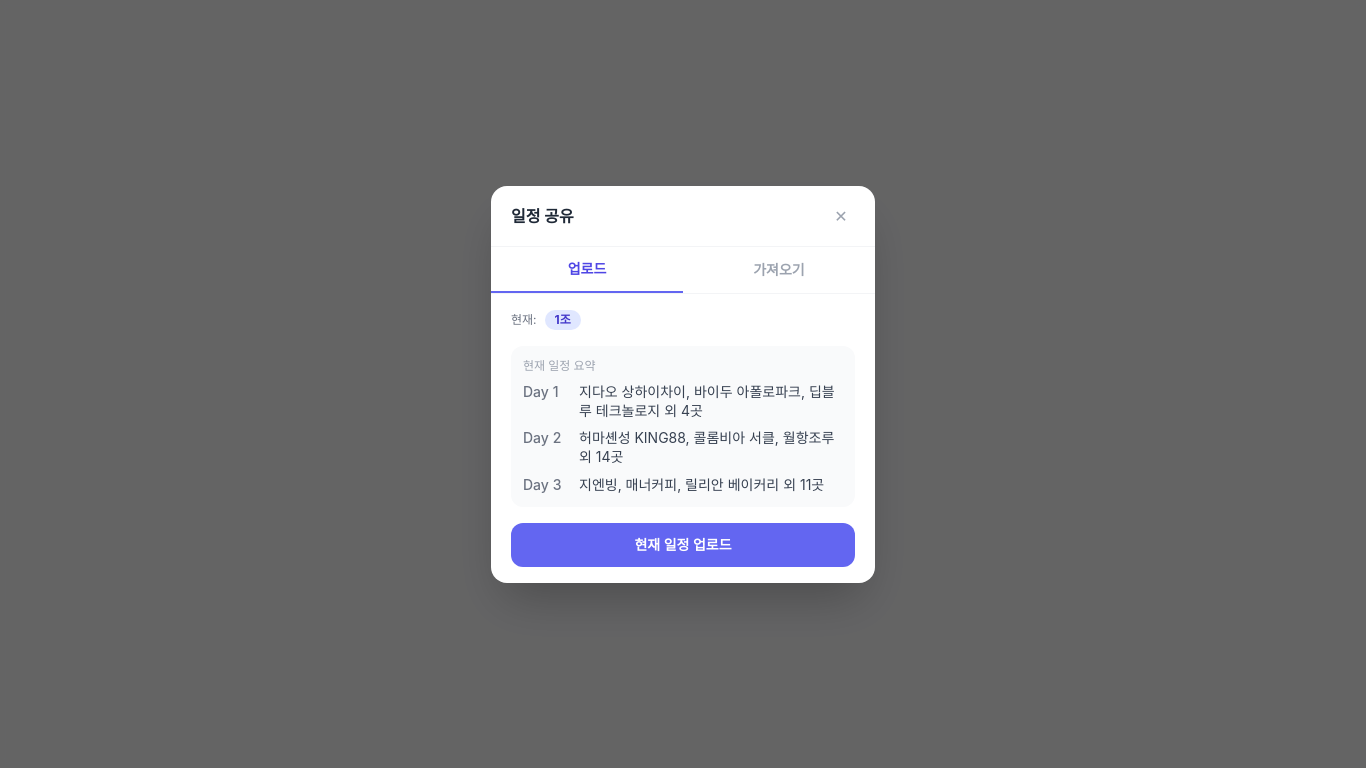
Test: ShareScheduleModal 컴포넌트 › 가져오기 탭 클릭 시 조 선택 UI가 표시된다
The image size is (1366, 768).
탭 영역에서 첫 번째 "가져오기" 탭 클릭 (헤더 탭)
What coordinates should you click on to do the following:
click the button "가져오기"
I would click on:
 (779, 270)
Its box is [683,246,875,292].
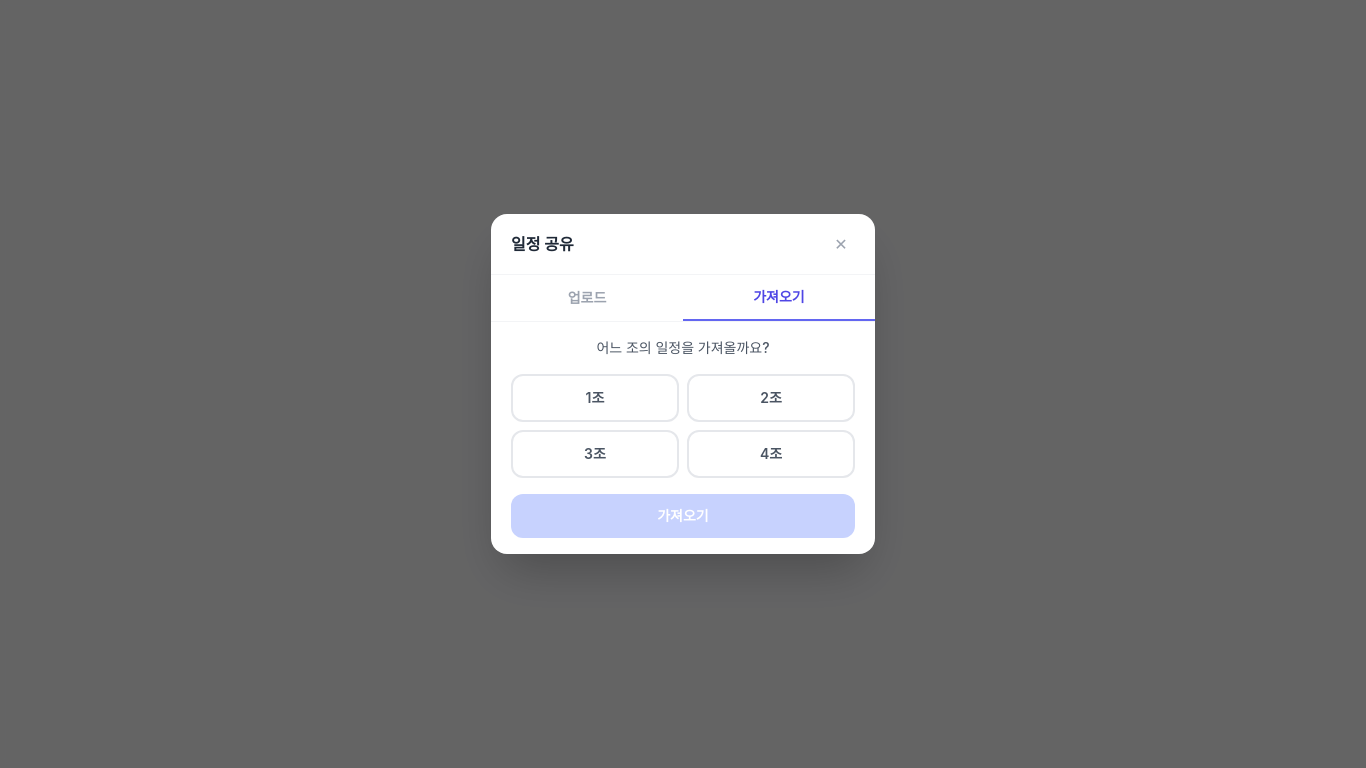
Check: the button "1조" is shown, box [511,374,679,422]
Check: the text "어느 조의 일정을 가져올까요?" is shown, box [596,339,770,356]
Check: the button "4조" is shown, box [687,430,855,478]
